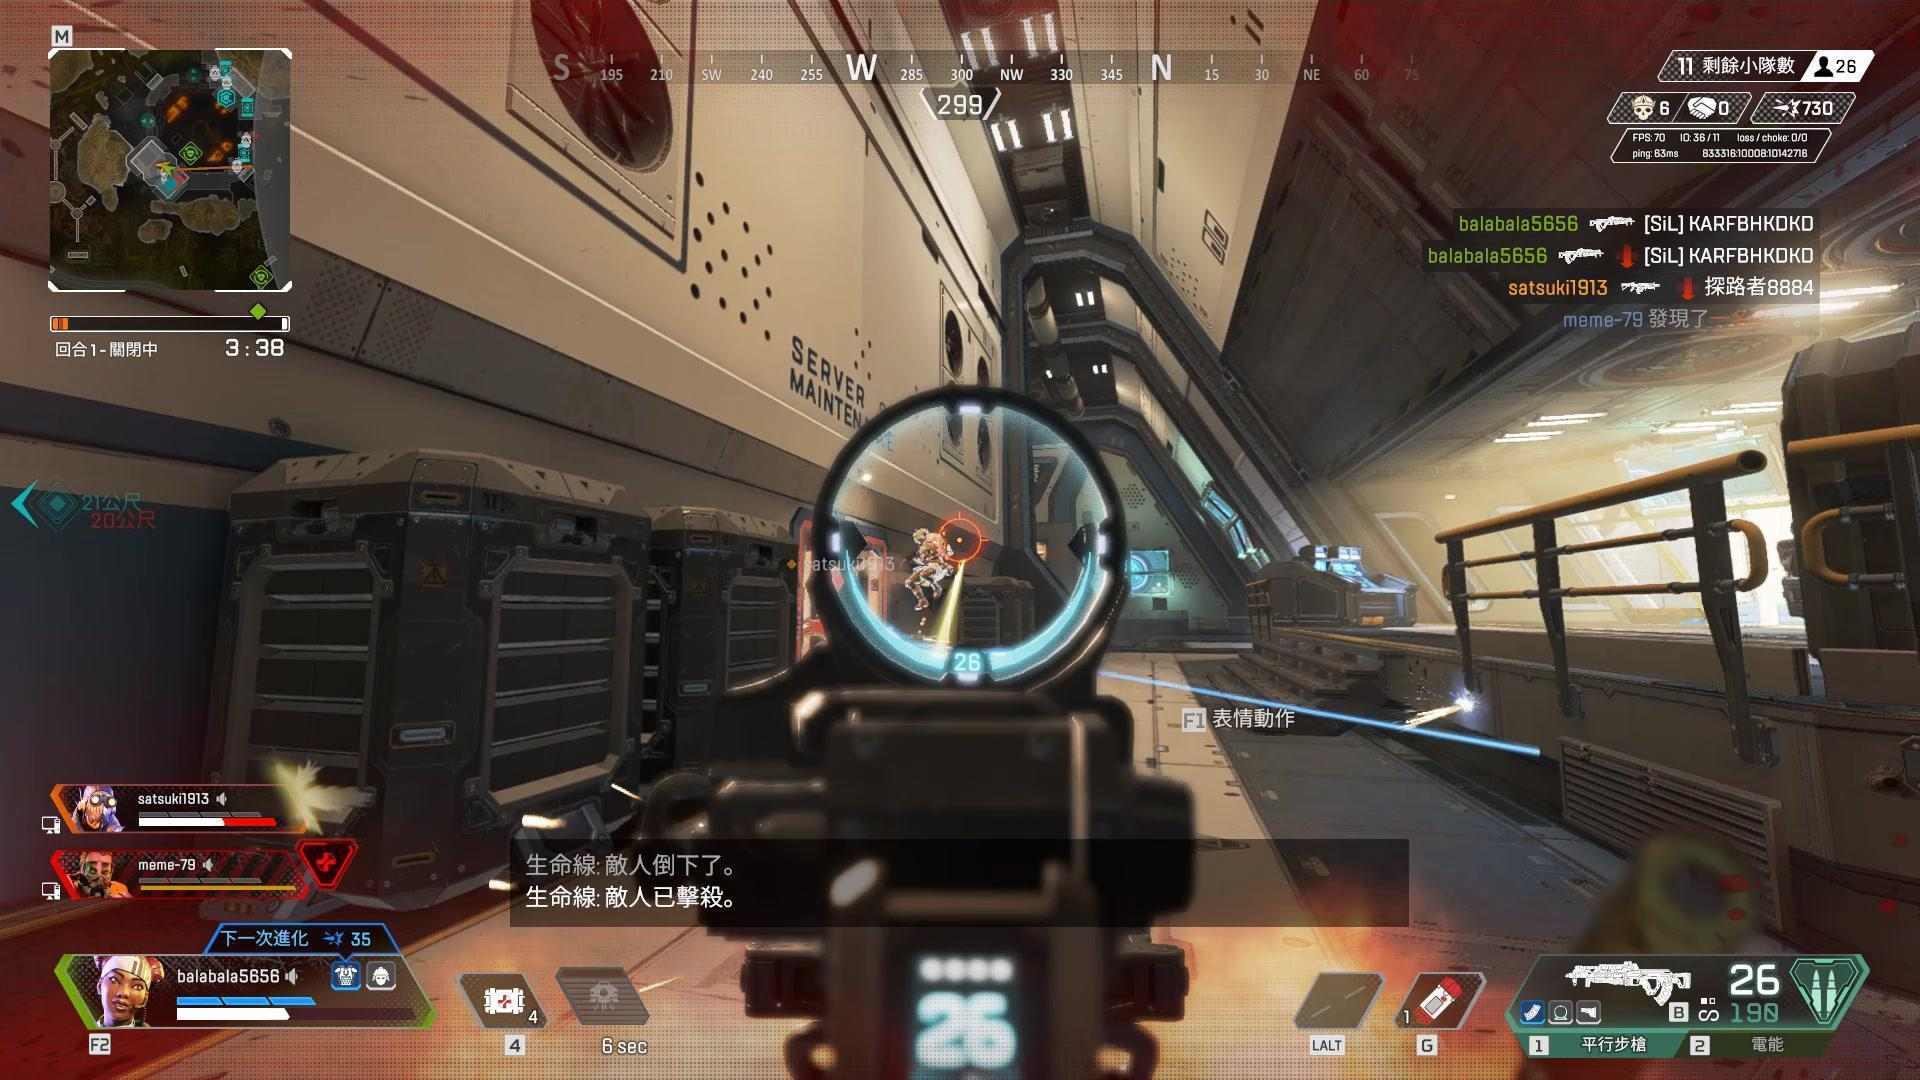avatar: (900, 526, 956, 612)
